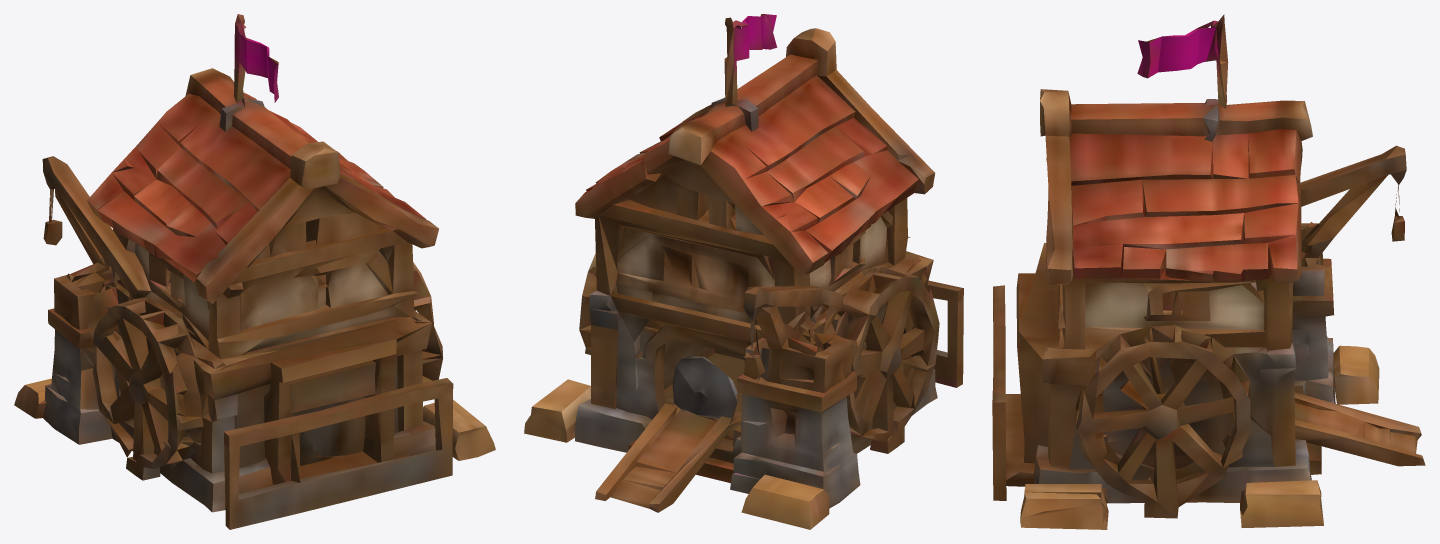
The model's file is sawmill2.lod2.glb.
The picture shows the model from 3 angles, left to right: view 1: azimuth 30°, elevation 25°; view 2: azimuth 150°, elevation 25°; view 3: azimuth 270°, elevation 25°; orthographic projection. The views are drawn at different scales.
Visible parts, largest first — view 1: sawmill2.lod2_uv; view 2: sawmill2.lod2_uv; view 3: sawmill2.lod2_uv.
Boxes of the visible parts, x1,y1,x2,y2 form: sawmill2.lod2_uv: (14,14,495,529); sawmill2.lod2_uv: (524,14,963,529); sawmill2.lod2_uv: (992,14,1425,529).
Bounding box in the file's own units: 1.52 × 1.9 × 1.72.
Materials: 1 (1 with a texture image).
